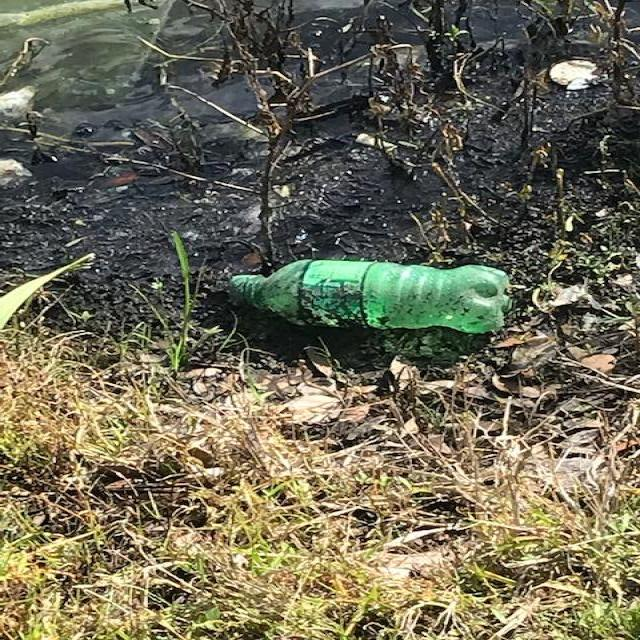litter: (232, 259, 513, 337), (1, 81, 40, 193), (545, 58, 608, 89)
